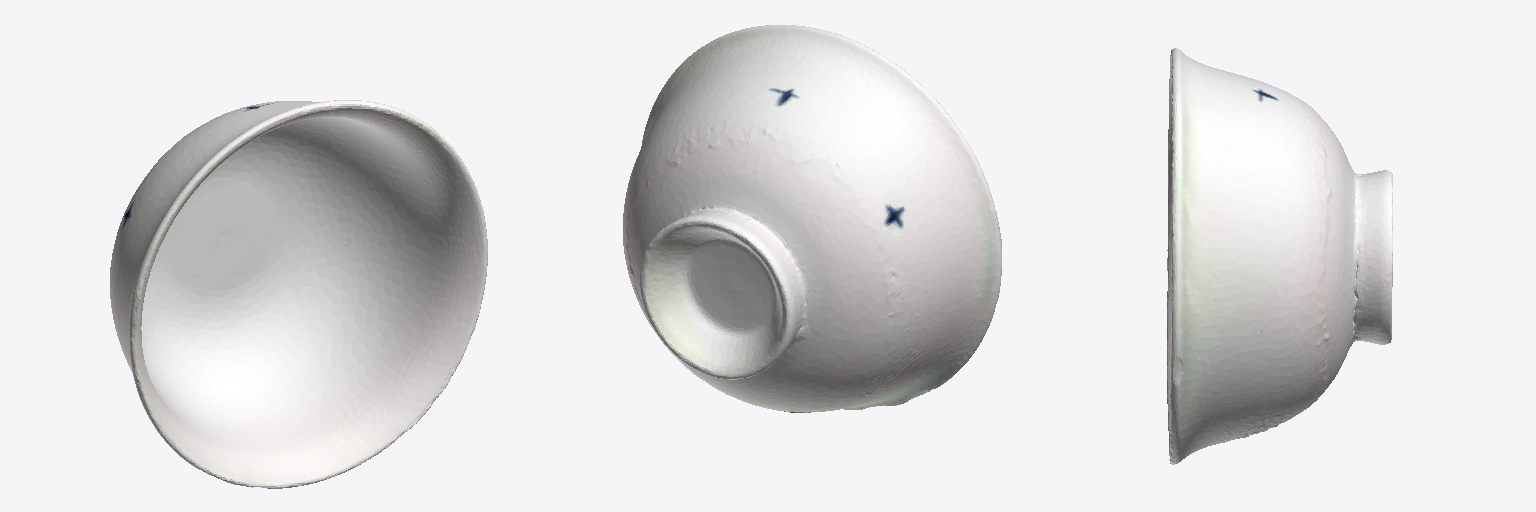
3 views of the same model, side by side, from view 1: azimuth 30°, elevation 25°; view 2: azimuth 150°, elevation 25°; view 3: azimuth 270°, elevation 25° (orthographic).
Bounding box in the file's own units: 118 × 118 × 64.5.
1 materials, 1 textured.